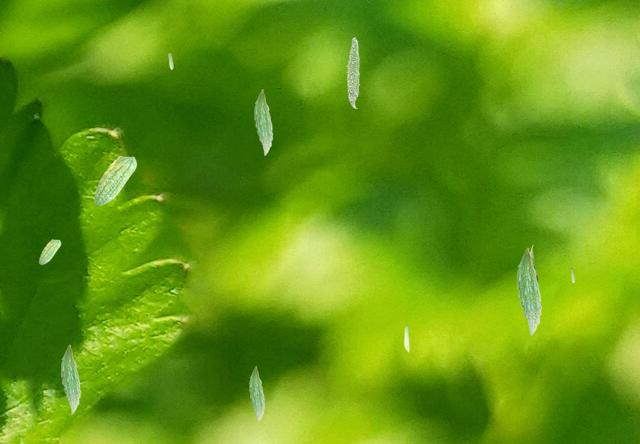ampalaya: (516, 247, 542, 336), (93, 155, 137, 206), (60, 344, 81, 414), (254, 89, 273, 156), (346, 36, 360, 109), (249, 365, 265, 422), (38, 239, 61, 265), (530, 244, 538, 282), (404, 324, 410, 352), (167, 52, 173, 69), (570, 268, 575, 283)
